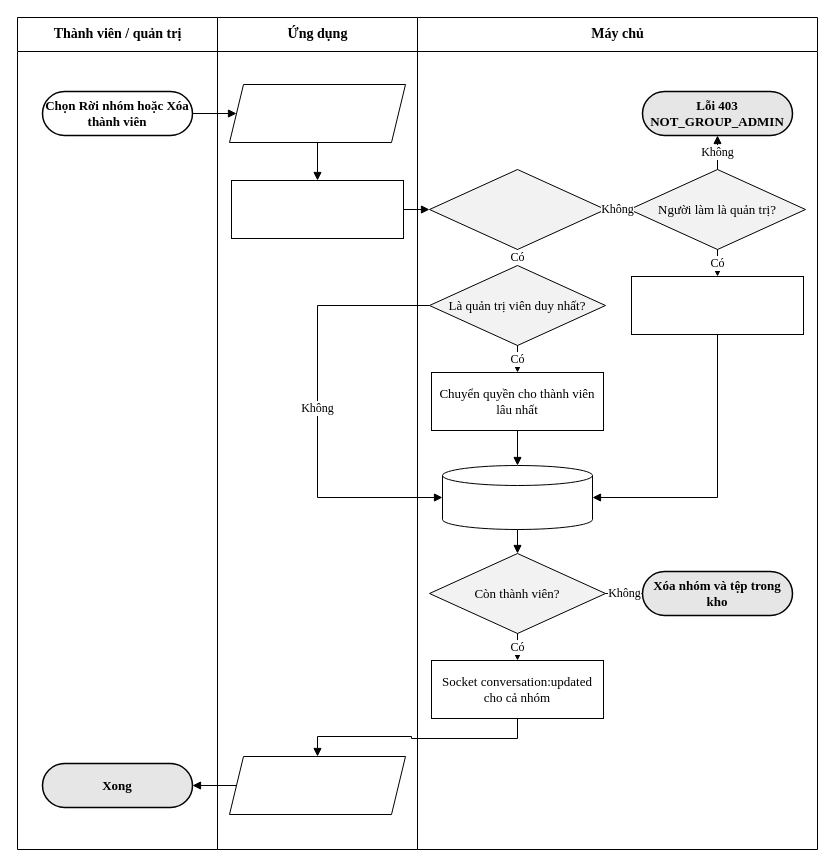
Image size: 835x867. Some labels were removed from this diagram. The shapes that lost their labels are listed below. From the top down, each one's centre as x and y in pixels, then its label:
pixel 317 113: Pop-up xác nhận
pixel 317 209: Gửi yêu cầu
pixel 517 209: Tự rời nhóm?
pixel 717 305: Đánh dấu người bị xóa đã rời
pixel 517 497: Ghi leftAt, tin hệ thống
pixel 317 785: Nhóm biến khỏi hộp thư người rời
